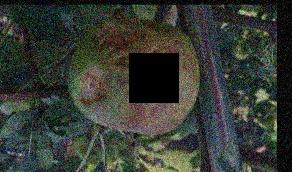rotten apple: (69, 13, 199, 137)
